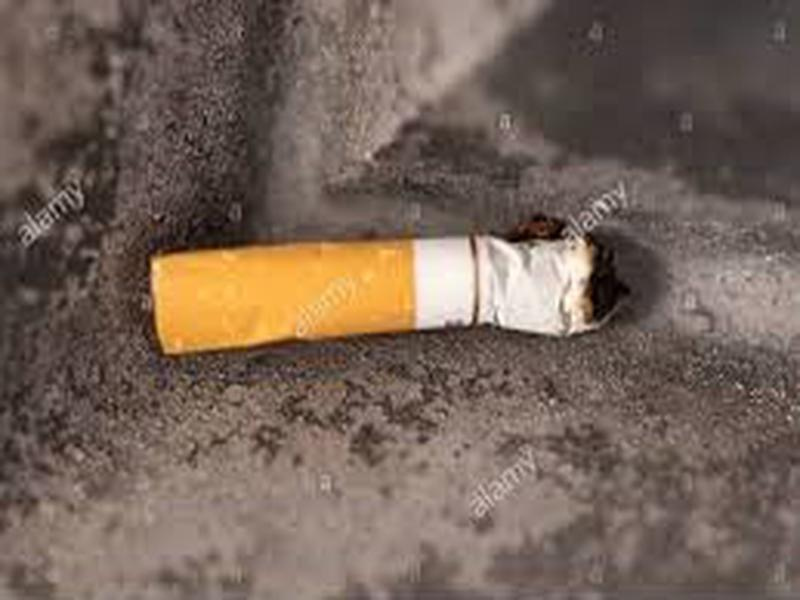burned_cigarette: (137, 212, 632, 363)
